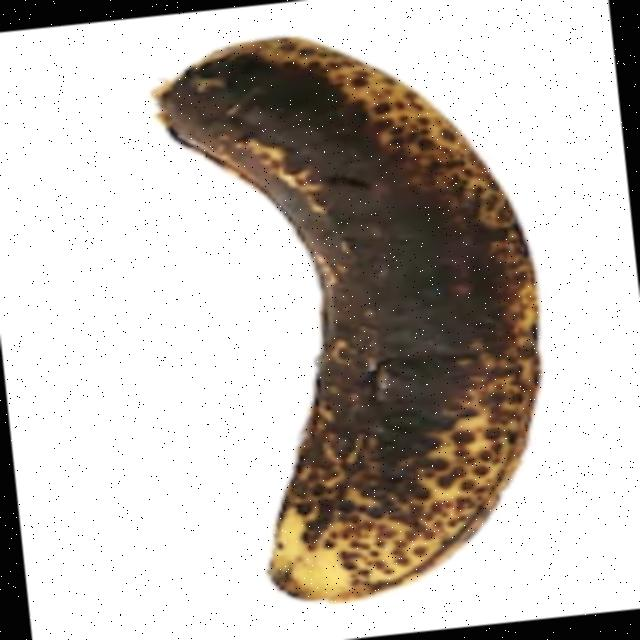Rotten: (130, 0, 580, 629)
